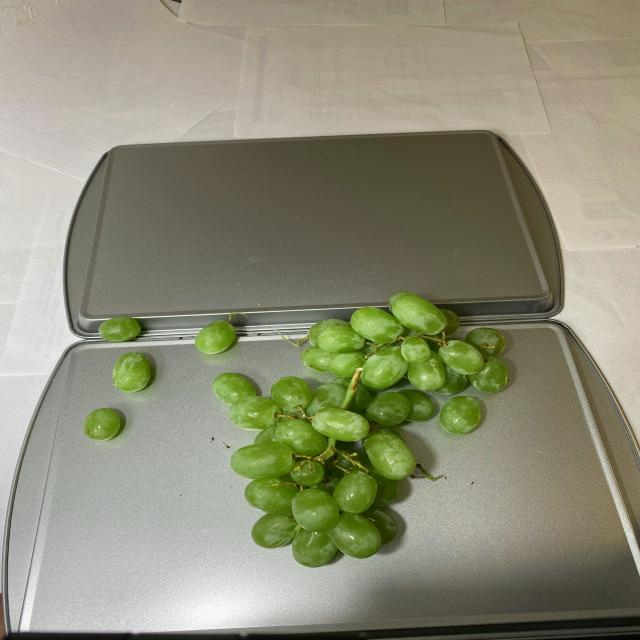grapes: (196, 293, 513, 570), (78, 313, 156, 439)
